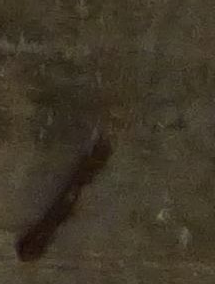Exposed reinforcement: (14, 142, 114, 262)
